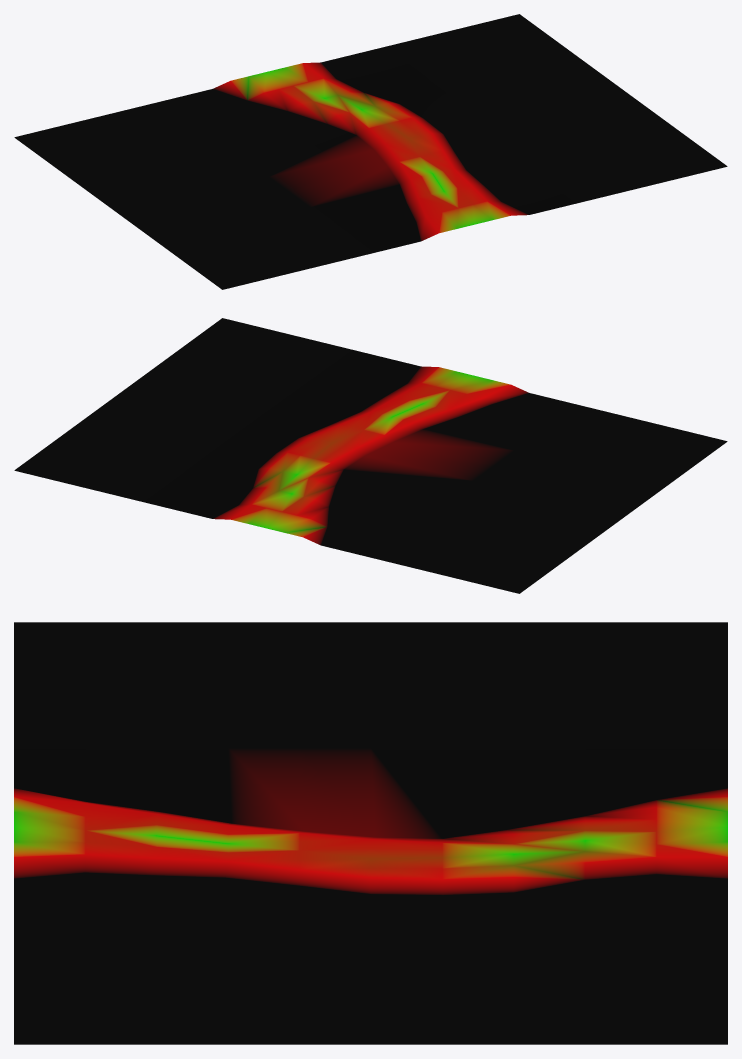
The model's file is Section_WayLine03_Steppe_Terrain.fbx.
The picture shows the model from 3 angles, top to bottom: view 1: azimuth 30°, elevation 25°; view 2: azimuth 150°, elevation 25°; view 3: azimuth 270°, elevation 25°; orthographic projection. The views are drawn at different scales.
Visible parts, largest first — view 1: Section_WayLine03_Steppe_Terrain; view 2: Section_WayLine03_Steppe_Terrain; view 3: Section_WayLine03_Steppe_Terrain.
Boxes of the visible parts, bbox=[...] form: Section_WayLine03_Steppe_Terrain: bbox=[14, 14, 727, 289]; Section_WayLine03_Steppe_Terrain: bbox=[14, 318, 727, 593]; Section_WayLine03_Steppe_Terrain: bbox=[14, 622, 727, 1044].
Size of the model in its own units: 7000 by 50 by 5000.
